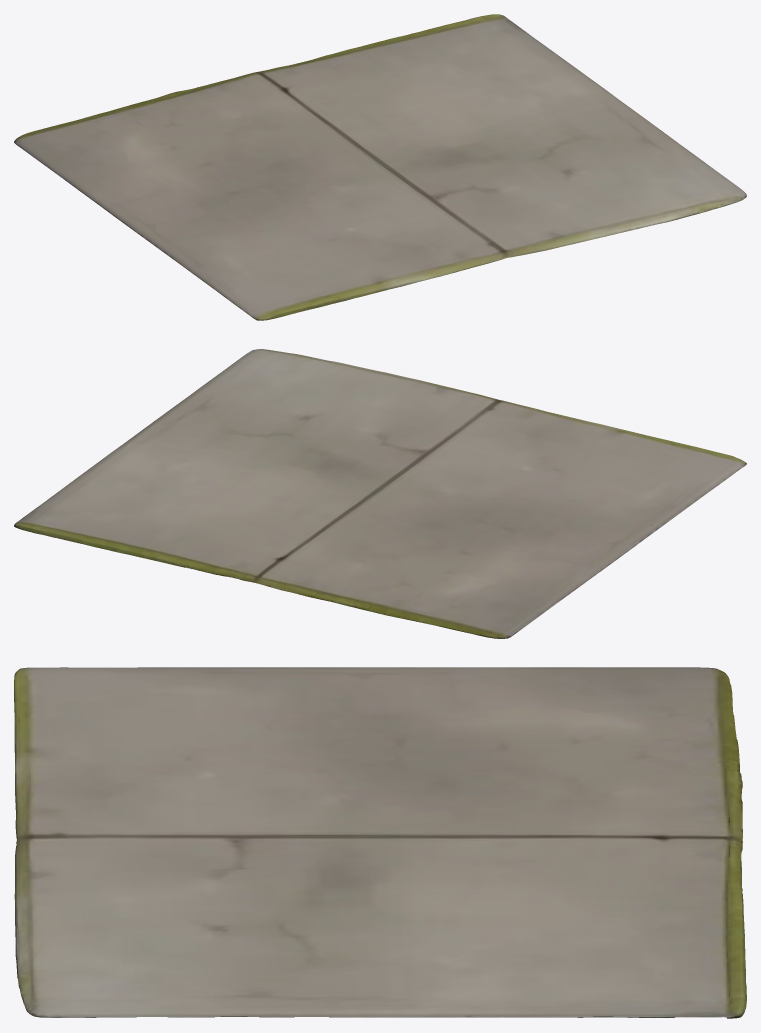
Rendered from street.glb.
The picture shows the model from 3 angles, top to bottom: view 1: azimuth 30°, elevation 25°; view 2: azimuth 150°, elevation 25°; view 3: azimuth 270°, elevation 25°; orthographic projection. The views are drawn at different scales.
Visible parts, largest first — view 1: world; view 2: world; view 3: world.
Boxes of the visible parts, bbox=[...] form: world: bbox=[14, 14, 746, 320]; world: bbox=[14, 349, 746, 638]; world: bbox=[14, 667, 746, 1018].
Size of the model in its own units: 1 by 0.0137 by 0.8891.
Materials: 1 (1 with a texture image).
